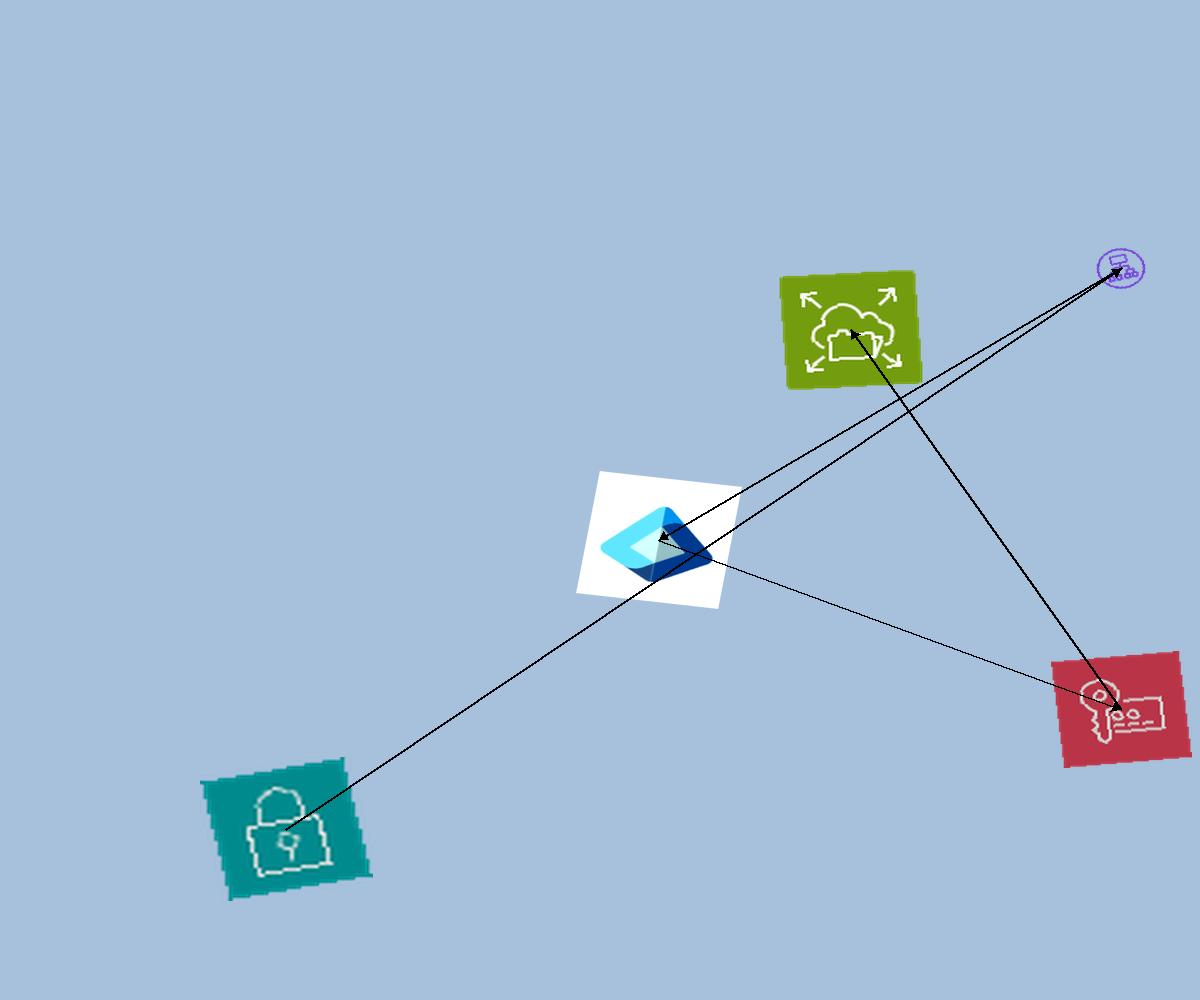AWS-EFS: (778, 269, 924, 391)
AWS-Key-Management-Service: (1051, 651, 1192, 768)
AWS-Private-subnet: (200, 757, 373, 901)
AWS-Res_Elastic-Load-Balancing_Application-Load-Balancer: (1088, 241, 1154, 296)
Azure_microsoft_entra: (576, 471, 742, 609)
